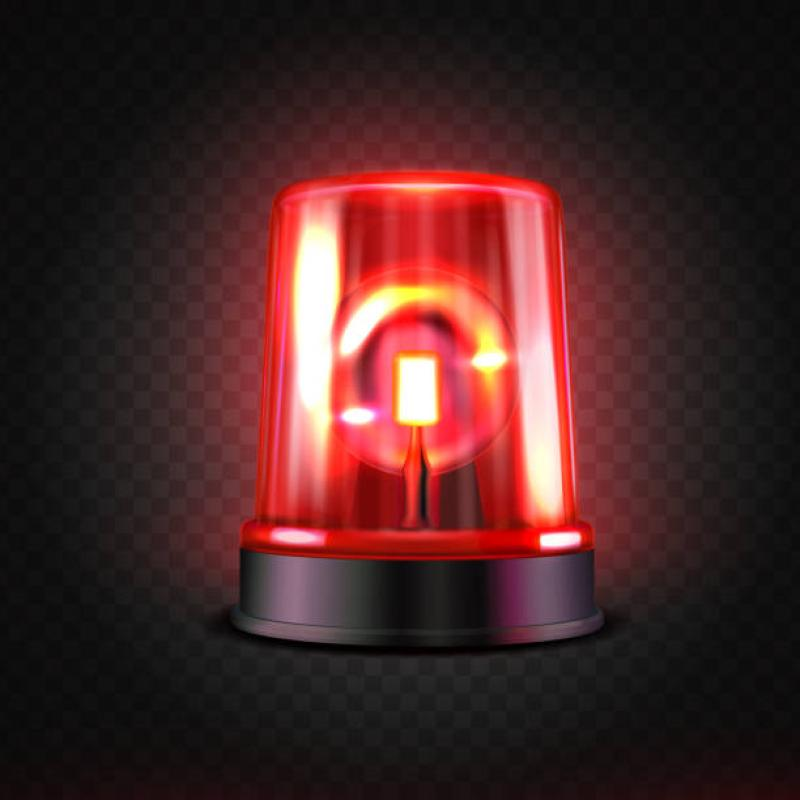AmbulanceSiren: (187, 150, 635, 700)
